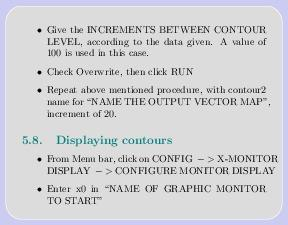paragraph: (43, 11, 274, 122), (48, 149, 282, 212)
subtitle: (54, 130, 174, 148)
